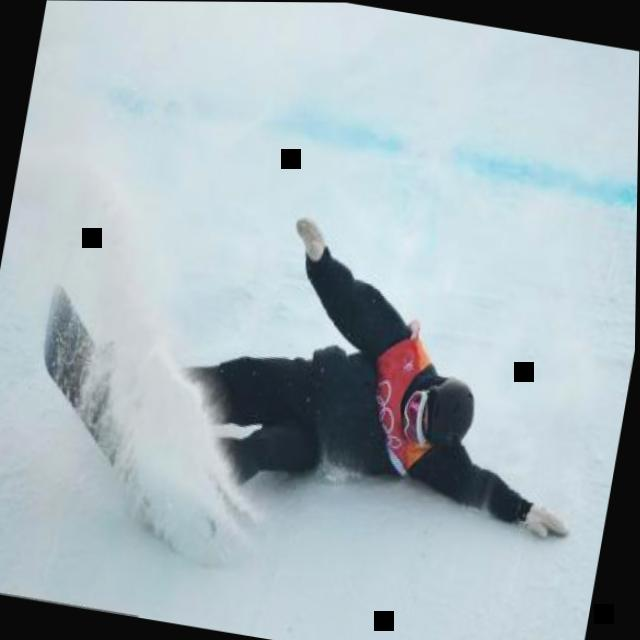Fall-Detected: (168, 183, 634, 556)
